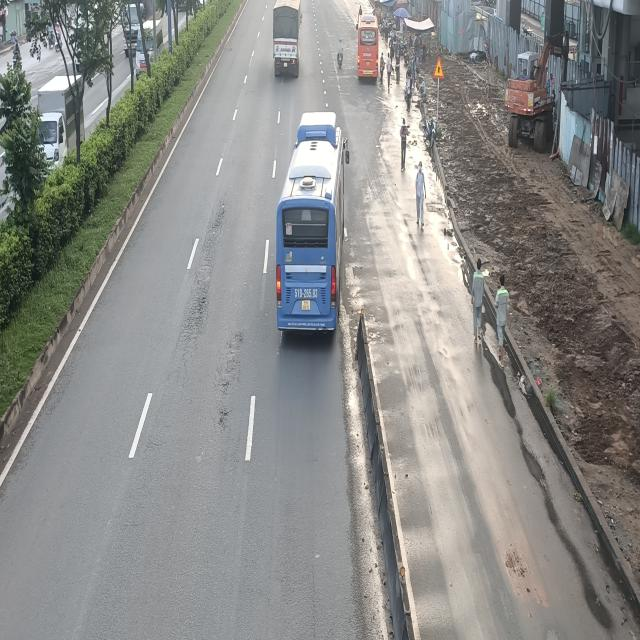coach: (272, 116, 343, 341), (356, 11, 381, 80)
truck: (274, 1, 302, 78)
